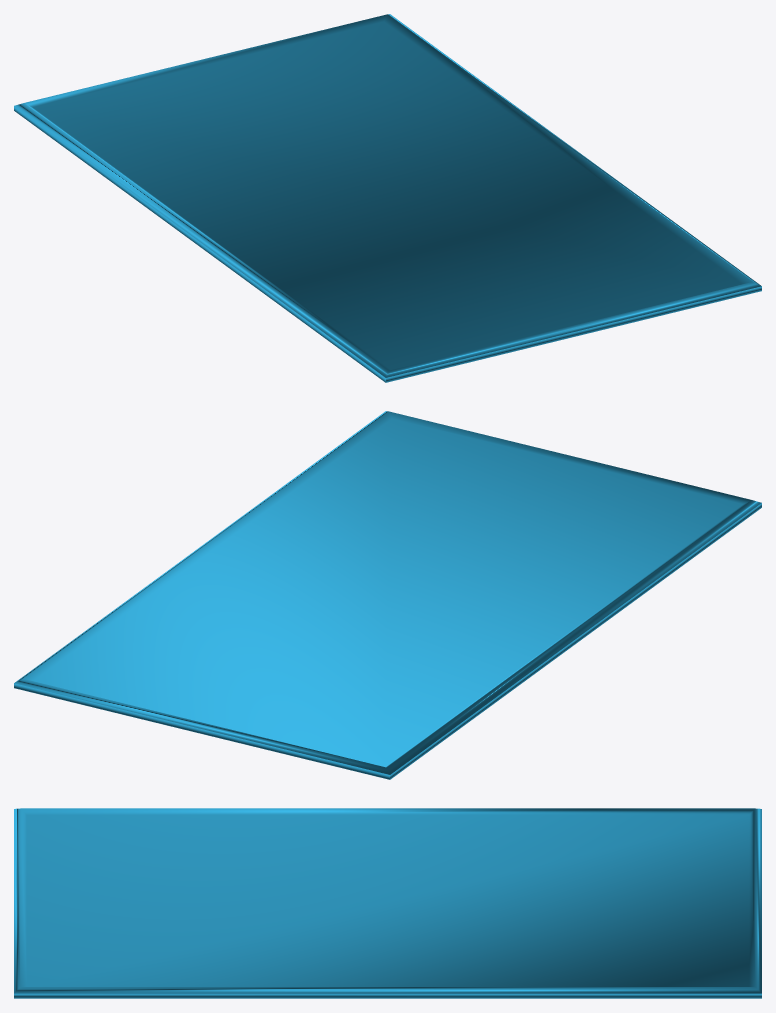
Rendered from podkladka_antystatyczna.fbx.
The picture shows the model from 3 angles, top to bottom: view 1: azimuth 30°, elevation 25°; view 2: azimuth 150°, elevation 25°; view 3: azimuth 270°, elevation 25°; orthographic projection.
Visible parts, largest first — view 1: podkladka_antystatyczna; view 2: podkladka_antystatyczna; view 3: podkladka_antystatyczna.
Boxes of the visible parts, left/top/right/bottom form: podkladka_antystatyczna: left=14, top=14, right=761, bottom=382; podkladka_antystatyczna: left=14, top=411, right=761, bottom=779; podkladka_antystatyczna: left=14, top=808, right=761, bottom=998.
Size of the model in its own units: 18581 by 397 by 31814.
